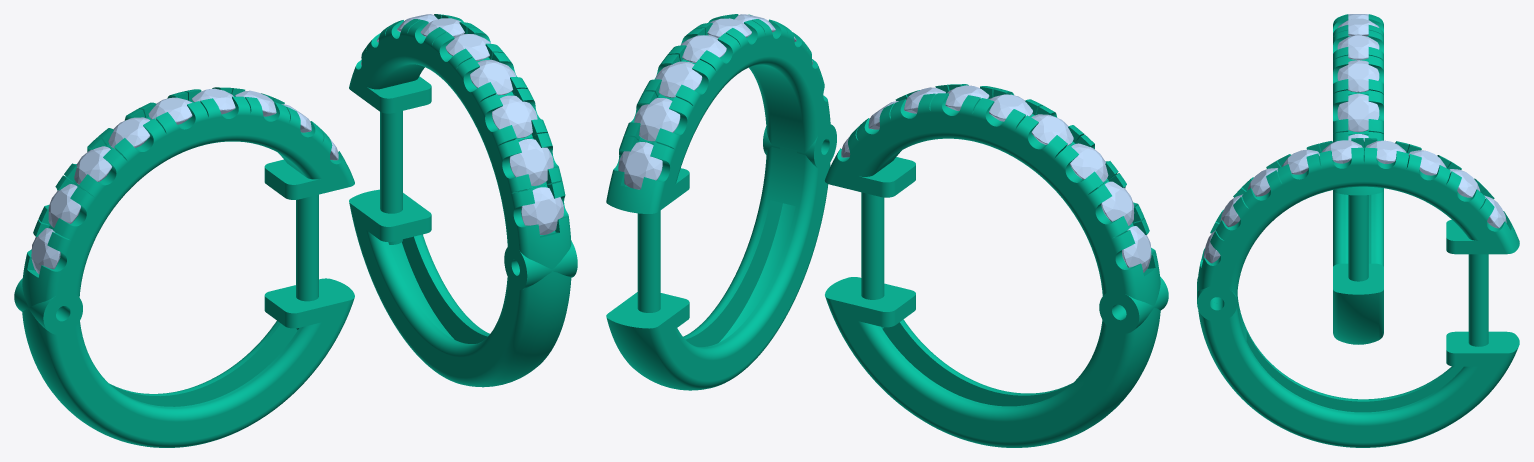
The picture shows the model from 3 angles, left to right: view 1: azimuth 30°, elevation 25°; view 2: azimuth 150°, elevation 25°; view 3: azimuth 270°, elevation 25°; orthographic projection. The views are drawn at different scales.
Parts seen in each view (by area): view 1: VEAR146.3dm, Diamond_Round (×11); view 2: VEAR146.3dm, Diamond_Round (×11); view 3: VEAR146.3dm, Diamond_Round (×12).
Boxes of the visible parts, x1,y1,x2,y2 form: VEAR146.3dm: [14, 14, 577, 447]; Diamond_Round (×11): [31, 34, 563, 273]; VEAR146.3dm: [606, 14, 1168, 447]; Diamond_Round (×11): [618, 18, 1151, 272]; VEAR146.3dm: [1197, 14, 1519, 447]; Diamond_Round (×12): [1220, 18, 1506, 228].
Size of the model in its own units: 2.83 by 2.03 by 1.98.
